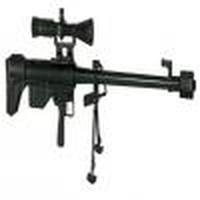gun: (6, 13, 199, 128)
